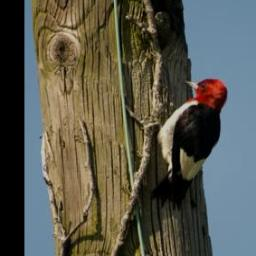Woodpecker: (139, 77, 230, 211)
